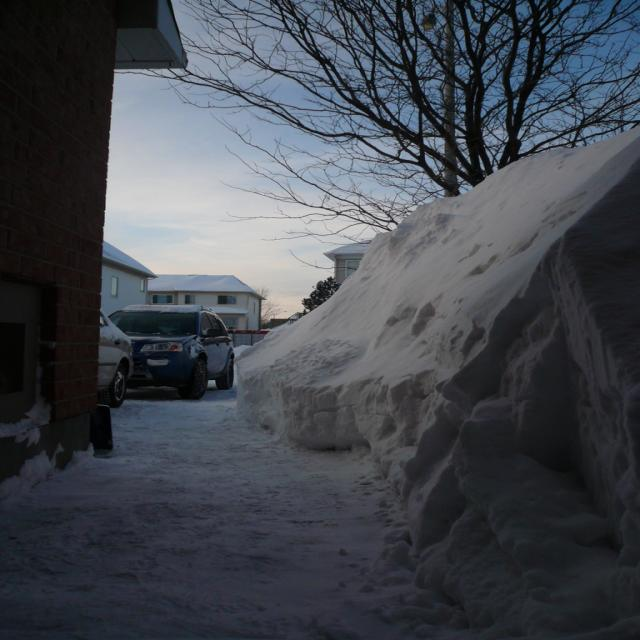car: (98, 297, 234, 401)
